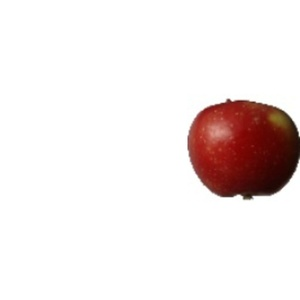maçã braeburn: (185, 99, 300, 193)
